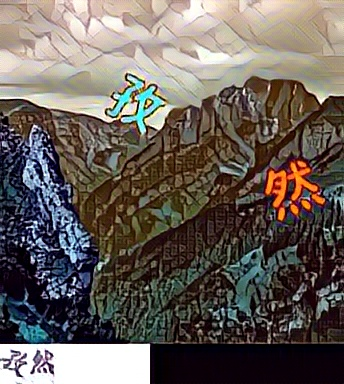C8BB: (263, 159, 325, 223)
D7CE: (105, 70, 167, 134)
